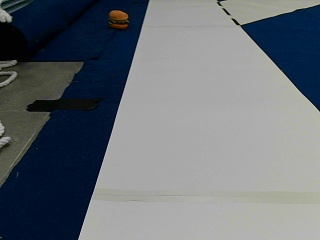burger: (108, 8, 129, 29)
